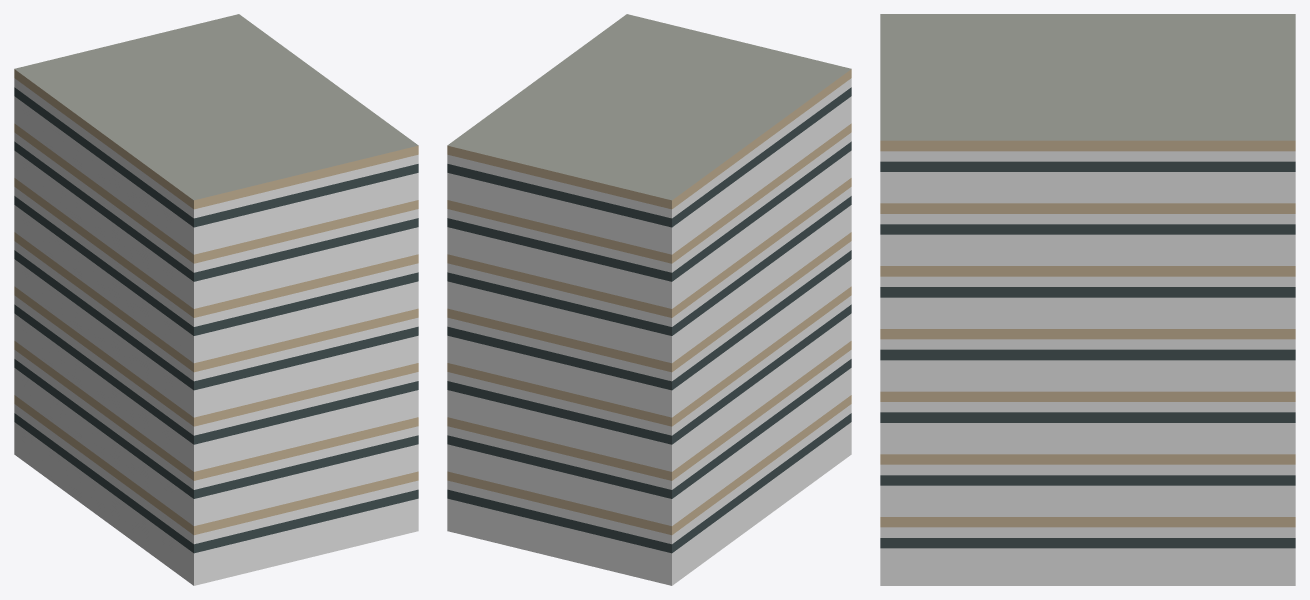
Rendered from far.fbx.
The picture shows the model from 3 angles, left to right: view 1: azimuth 30°, elevation 25°; view 2: azimuth 150°, elevation 25°; view 3: azimuth 270°, elevation 25°; orthographic projection. The views are drawn at different scales.
Visible parts, largest first — view 1: a2001/600/far; view 2: a2001/600/far; view 3: a2001/600/far.
Boxes of the visible parts, bbox=[...] form: a2001/600/far: bbox=[14, 14, 418, 585]; a2001/600/far: bbox=[447, 14, 851, 585]; a2001/600/far: bbox=[880, 14, 1295, 585].
Bounding box in the file's own units: 13 × 21.3 × 18.
